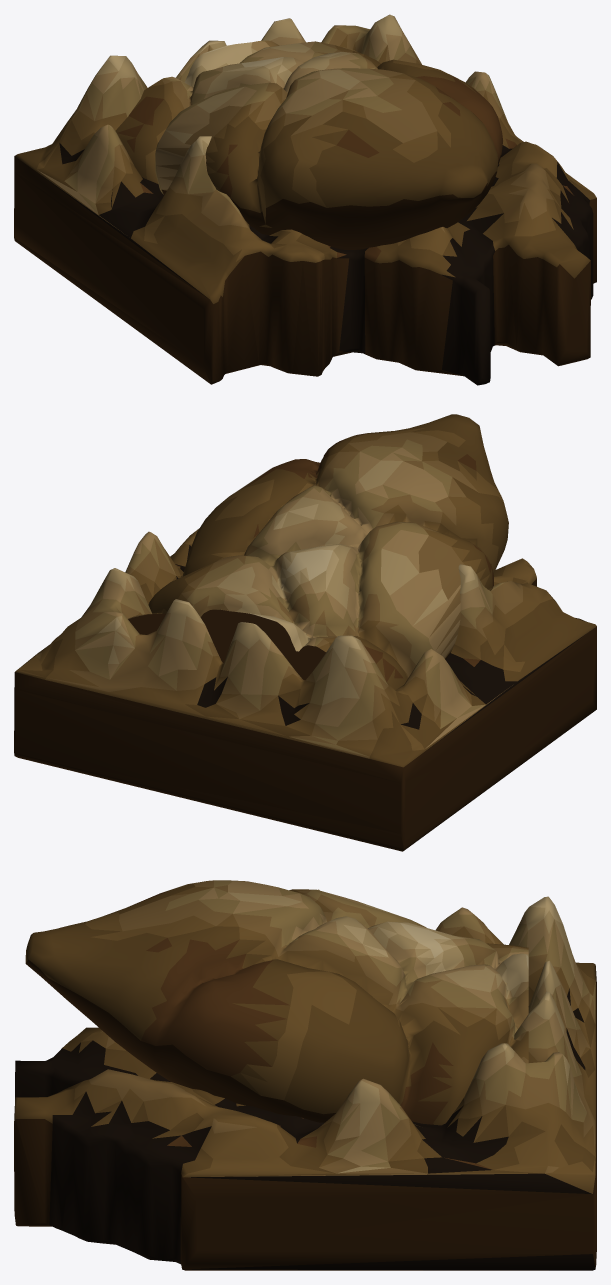
Rendered from ixm_maw_47.glb.
3 renders of one model, top to bottom at view 1: azimuth 30°, elevation 25°; view 2: azimuth 150°, elevation 25°; view 3: azimuth 270°, elevation 25°, orthographic. The views are drawn at different scales.
Parts seen in each view (by area): view 1: ixm_maw_47; view 2: ixm_maw_47; view 3: ixm_maw_47.
Part boxes in pixels (x1=…): ixm_maw_47: x1=14, y1=14, x2=596, y2=385; ixm_maw_47: x1=14, y1=414, x2=596, y2=851; ixm_maw_47: x1=14, y1=880, x2=596, y2=1270.
Bounding box in the file's own units: 24.14 × 15.29 × 27.95.
